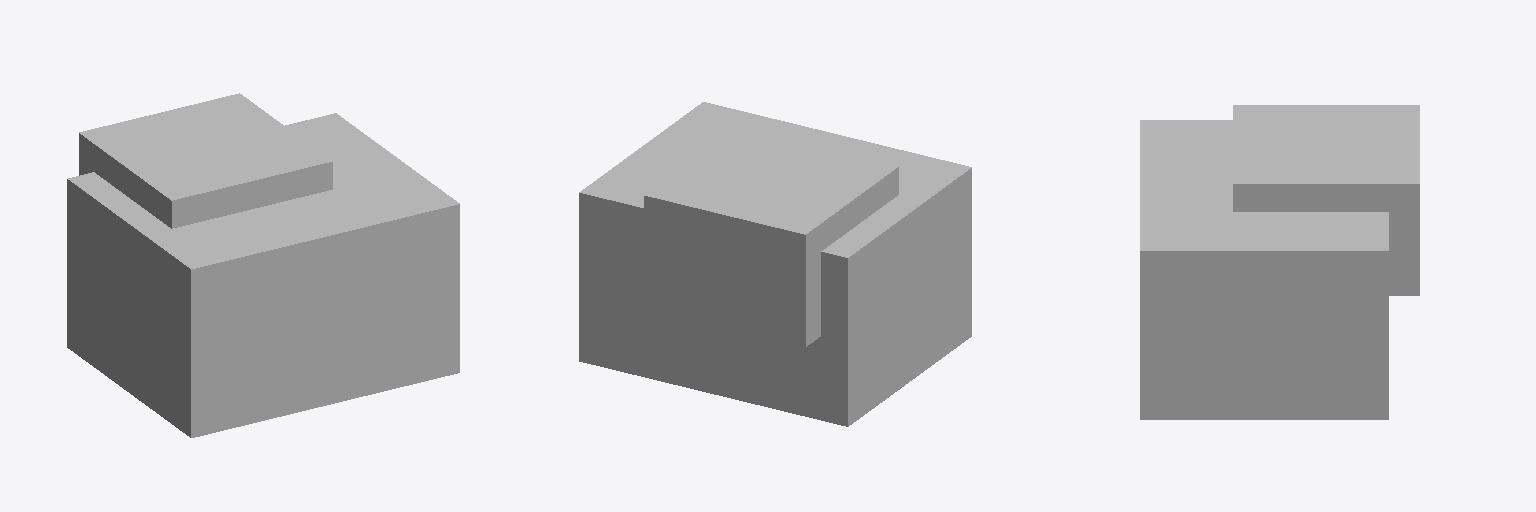
Rendered from Rock2.obj.
3 views of the same model, side by side, from view 1: azimuth 30°, elevation 25°; view 2: azimuth 150°, elevation 25°; view 3: azimuth 270°, elevation 25° (orthographic).
Parts seen in each view (by area): view 1: cube; view 2: cube; view 3: cube.
Part boxes in pixels (left/top/right/bottom): cube: left=67, top=93, right=459, bottom=437; cube: left=579, top=102, right=971, bottom=426; cube: left=1140, top=105, right=1419, bottom=419.
Size of the model in its own units: 0.3125 by 0.2188 by 0.2812.